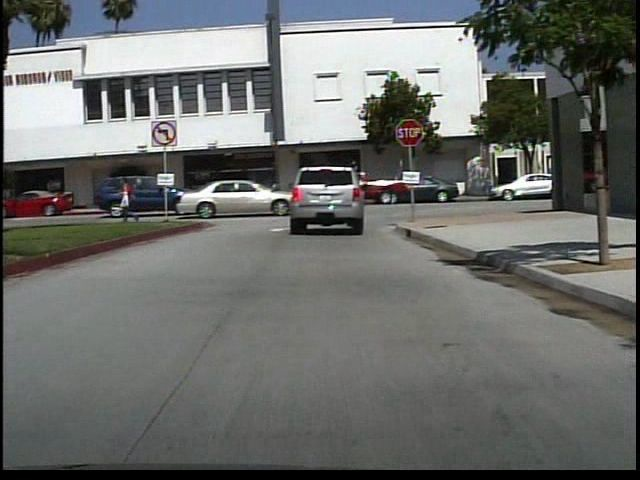person: (115, 173, 148, 225), (319, 166, 346, 229), (202, 174, 219, 206)
